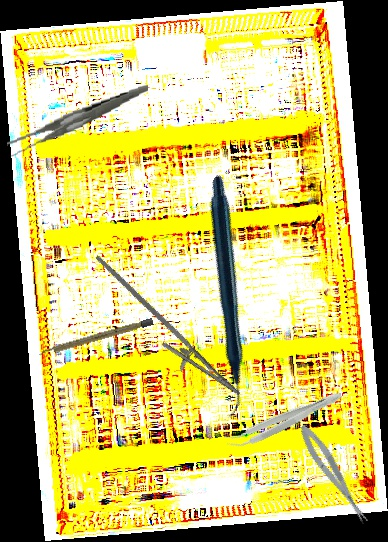Dressing Forceps: (2, 84, 154, 158)
Handpiece: (112, 173, 336, 420)
Micro Scissor: (294, 420, 373, 529)
Needle Holder: (71, 254, 256, 409)
Scalpel Handle: (38, 317, 154, 358)
Tissue Forceps: (223, 383, 345, 455)
